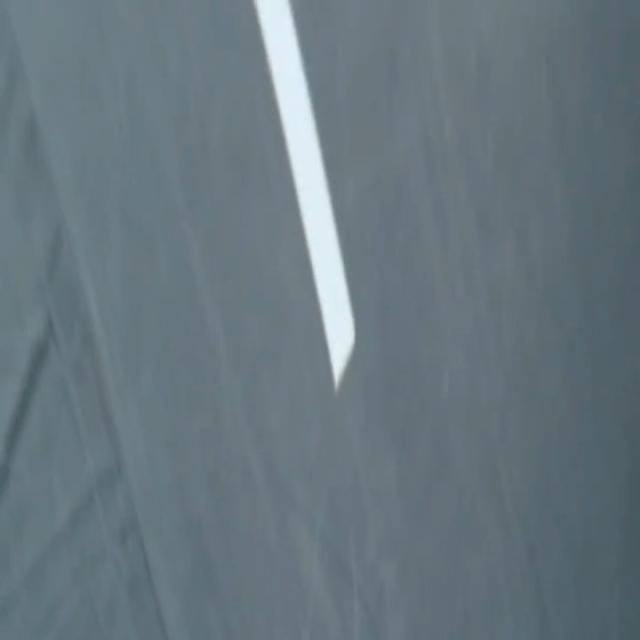center: (253, 0, 355, 392)
